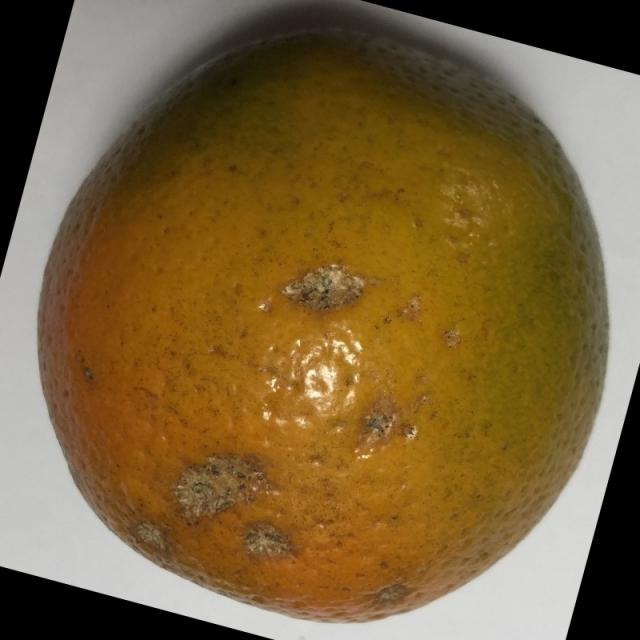canker: (26, 14, 632, 637)
